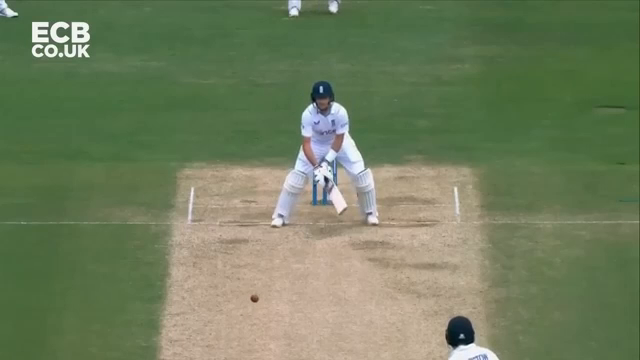batsman: (269, 81, 382, 226)
